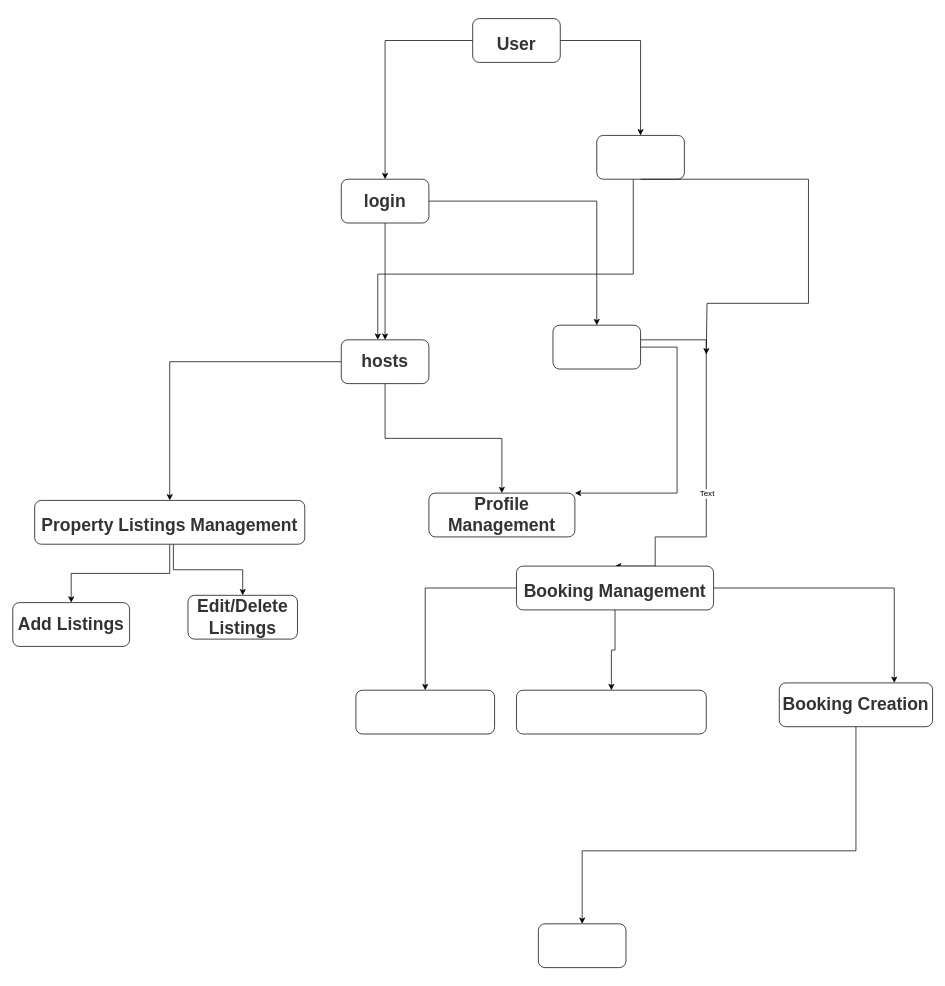
The diagram is 945 pixels wide and 986 high, and some of its shapes have lost their labels. Here are the shapes that lost their labels. From the top down, the box of each, then its label:
(596, 135, 684, 179): sign up
(552, 324, 641, 369): guests
(355, 689, 495, 734): Booking Status
(516, 689, 706, 734): Booking Cancellation
(538, 923, 626, 968): Payment
